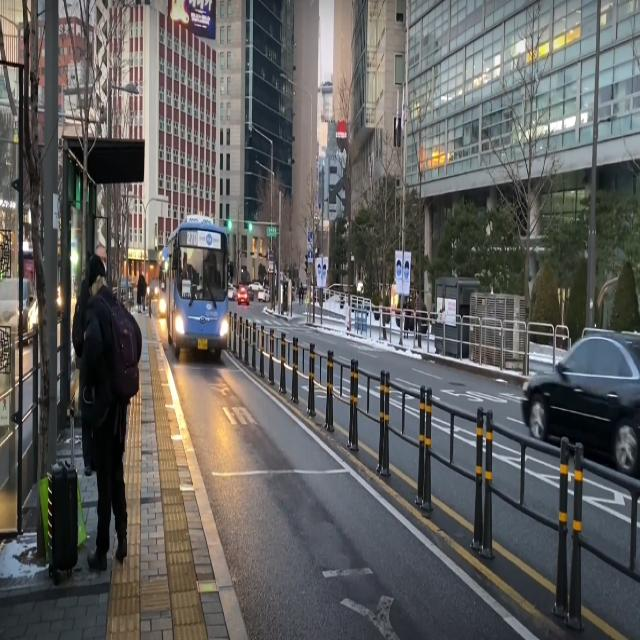bus-number: (187, 231, 197, 246)
